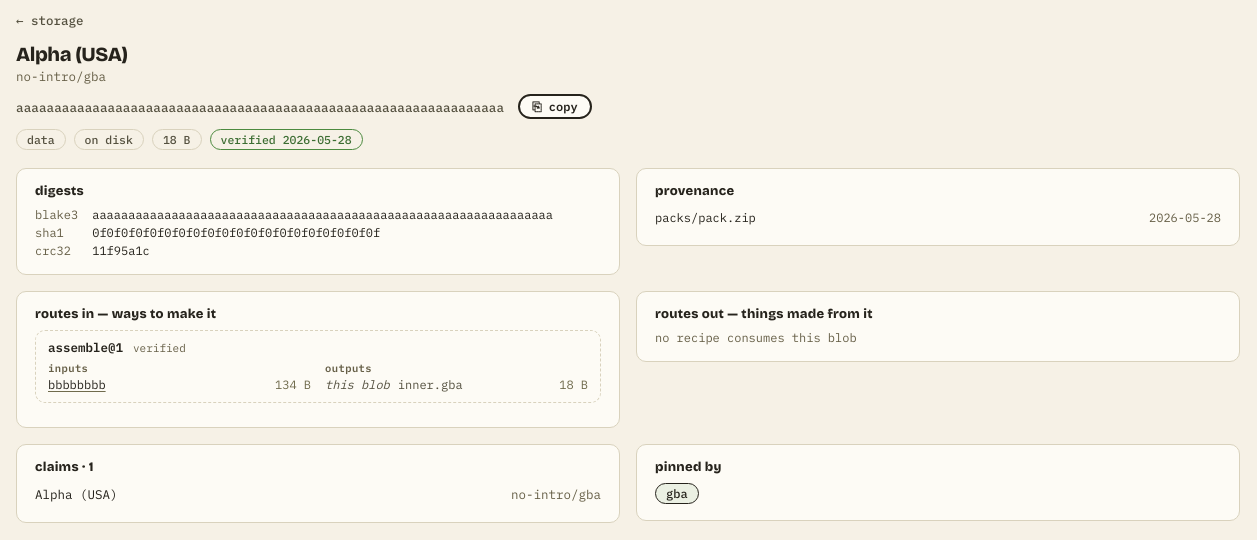
the copy affordance puts the full hash on the clipboard
Click the button "⎘ copy" at [555, 106], box [518,94,592,119]
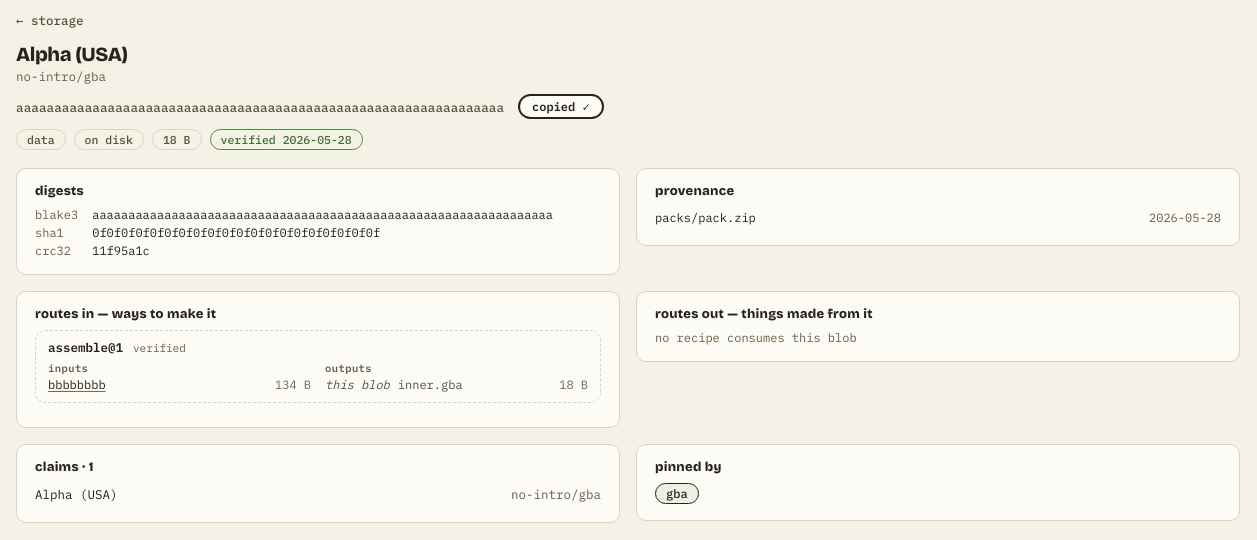
Expected: the button "copied ✓" is shown, [518,94,604,119]
